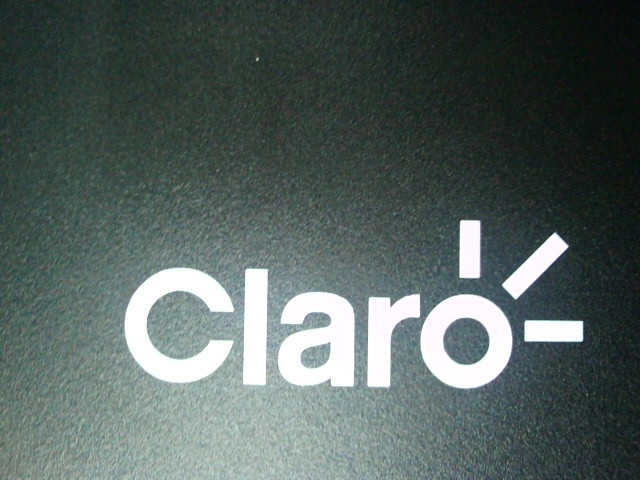BC_Claor: (116, 216, 585, 390)
